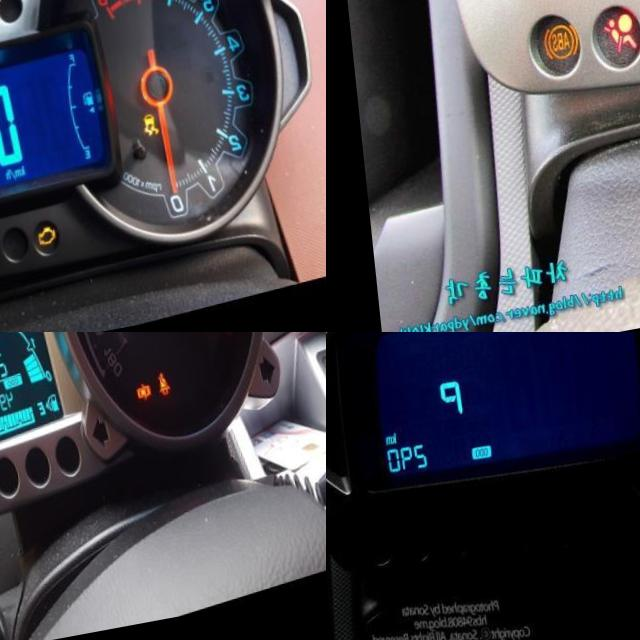Doors: (127, 391, 146, 415)
